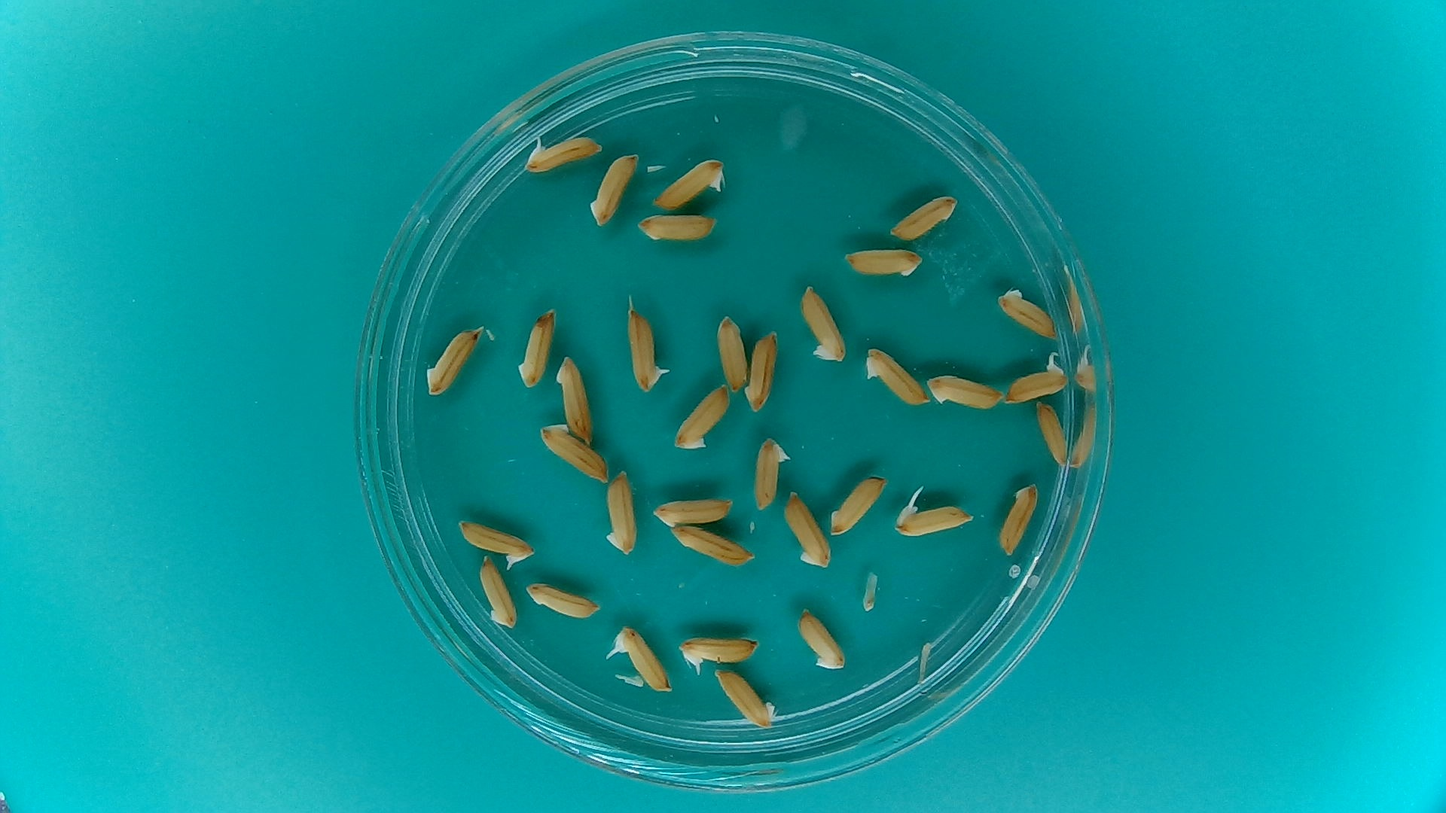no: (536, 422, 611, 483), (423, 323, 482, 398), (551, 352, 596, 448), (672, 382, 731, 454), (712, 669, 778, 731), (864, 346, 931, 407), (587, 150, 639, 227), (800, 282, 848, 363), (668, 523, 754, 567), (830, 472, 888, 536), (515, 305, 558, 389), (783, 493, 831, 568), (602, 467, 640, 559), (996, 480, 1039, 560), (796, 605, 848, 671), (994, 285, 1057, 339), (889, 193, 959, 239), (476, 553, 517, 631), (743, 327, 779, 414), (523, 580, 601, 620), (752, 434, 790, 511), (928, 373, 1005, 410), (650, 495, 736, 528), (842, 245, 923, 278), (716, 312, 749, 393), (1036, 396, 1070, 469), (636, 212, 717, 242)
yes: (650, 157, 727, 210), (627, 303, 671, 395), (614, 623, 673, 690), (456, 522, 535, 566), (522, 132, 604, 172), (1004, 354, 1066, 403), (682, 635, 760, 673), (893, 501, 969, 538)
